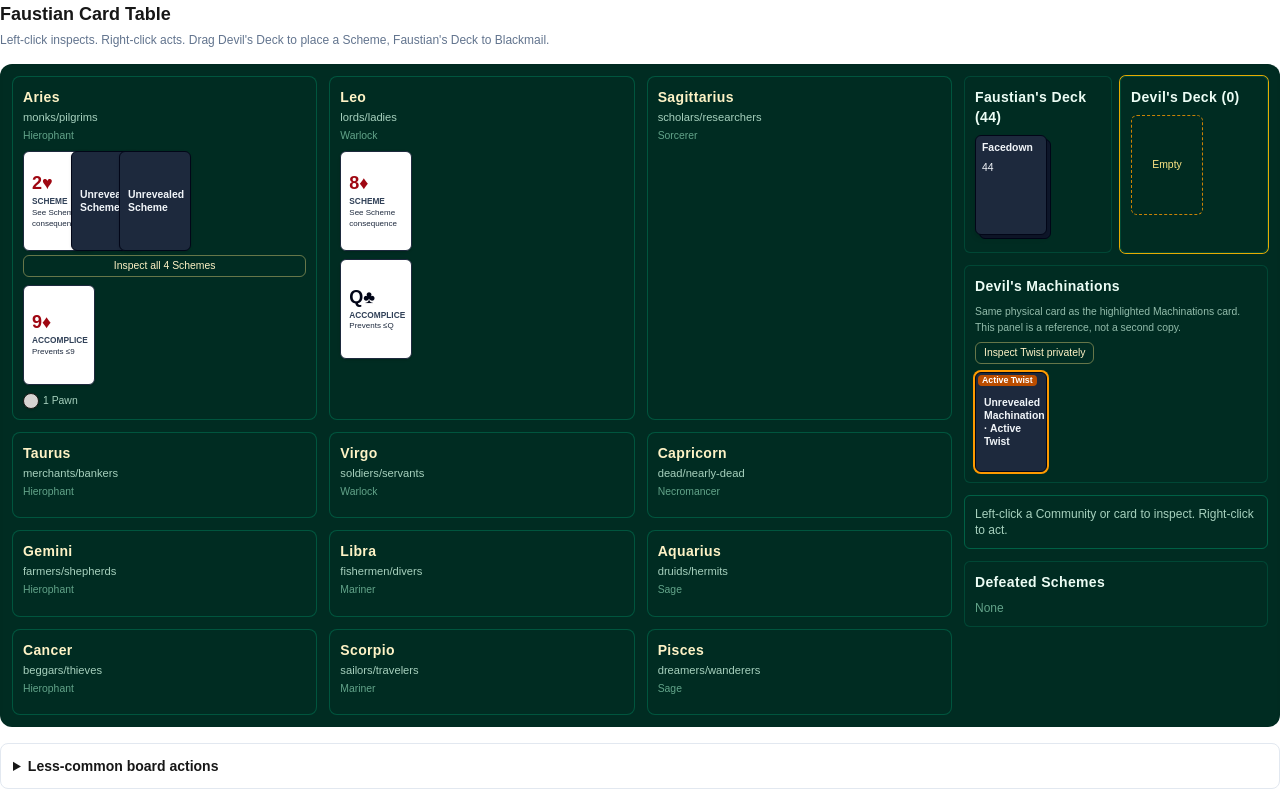
it: Faustian surface presentation › opens face-up card detail in the inspector without mutating canonical state
The width and height of the screenshot is (1280, 798).
Click the button "2♥ Scheme See Scheme consequence": (59, 201) [23,151,95,251]
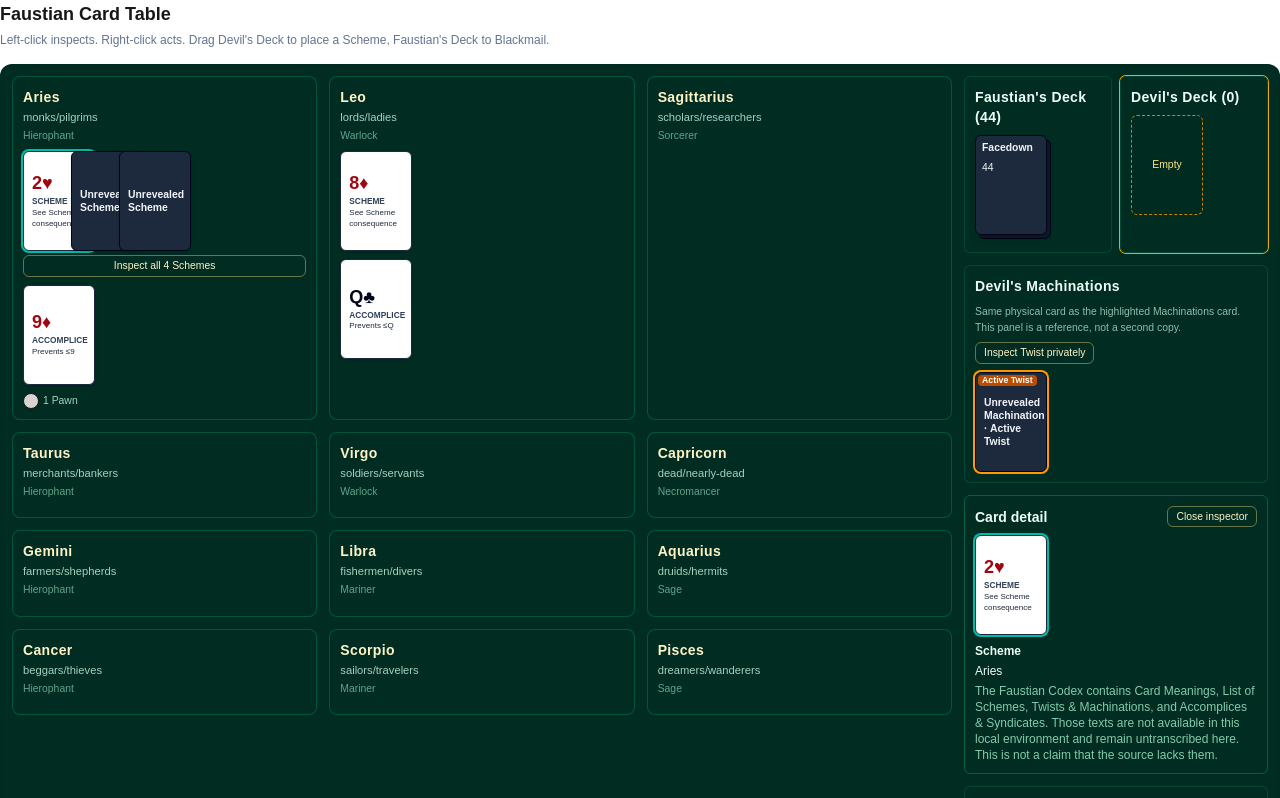
Now the element named "Aries inspector" shows "2♥", box [975,535,1047,635]
Now the element named "Aries inspector" shows "Scheme", box [975,535,1047,635]
